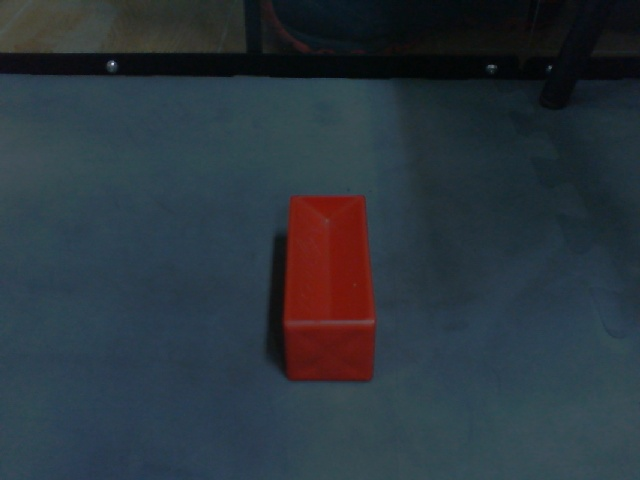RedSample: (278, 192, 380, 385)
